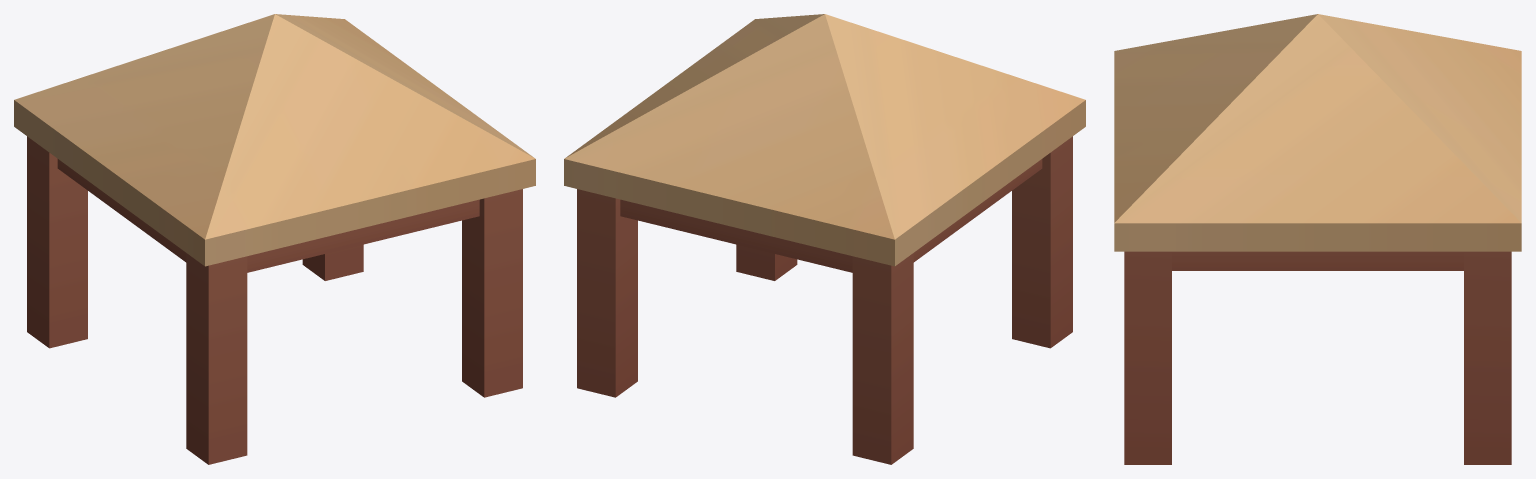
Rendered from tent.glb.
The picture shows the model from 3 angles, left to right: view 1: azimuth 30°, elevation 25°; view 2: azimuth 150°, elevation 25°; view 3: azimuth 270°, elevation 25°; orthographic projection. The views are drawn at different scales.
Parts seen in each view (by area): view 1: tent; view 2: tent; view 3: tent.
Boxes of the visible parts, <box> form: tent: <box>14,14,535,464</box>; tent: <box>564,14,1085,464</box>; tent: <box>1114,14,1521,464</box>.
Size of the model in its own units: 0.516 by 0.516 by 0.516.
1 material, 1 textured.
